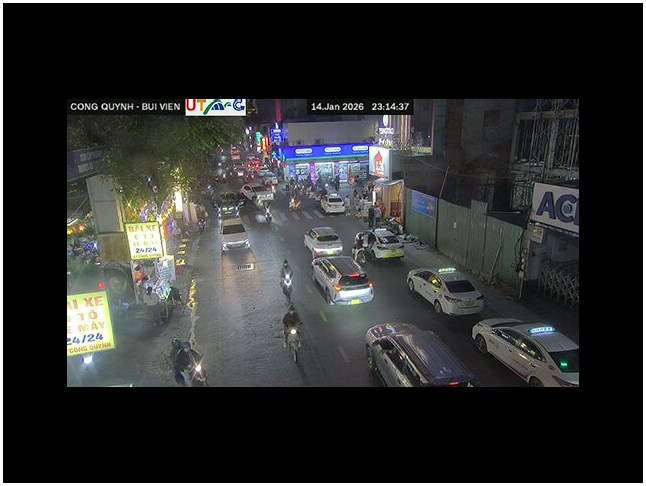car: (366, 321, 481, 387), (472, 317, 579, 387), (406, 266, 486, 317), (311, 256, 375, 304), (357, 227, 404, 260), (304, 226, 343, 261), (220, 219, 250, 252), (317, 191, 347, 215), (241, 182, 274, 201), (216, 191, 240, 214)
motorbike: (170, 337, 209, 387), (280, 307, 305, 361), (276, 259, 296, 301), (289, 193, 301, 211), (265, 206, 273, 223)
